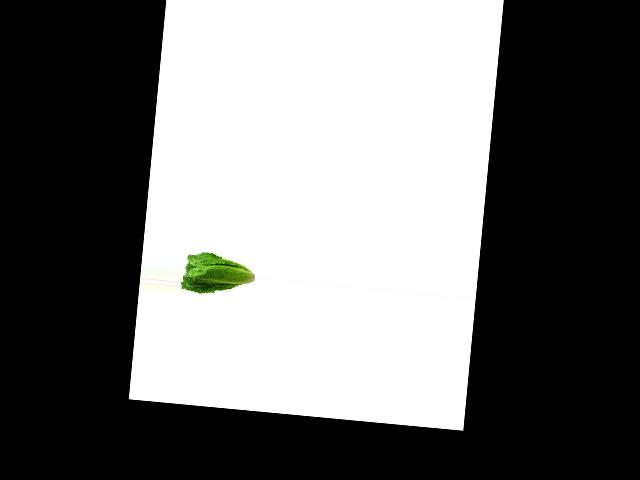lettuce: (180, 245, 256, 300)
